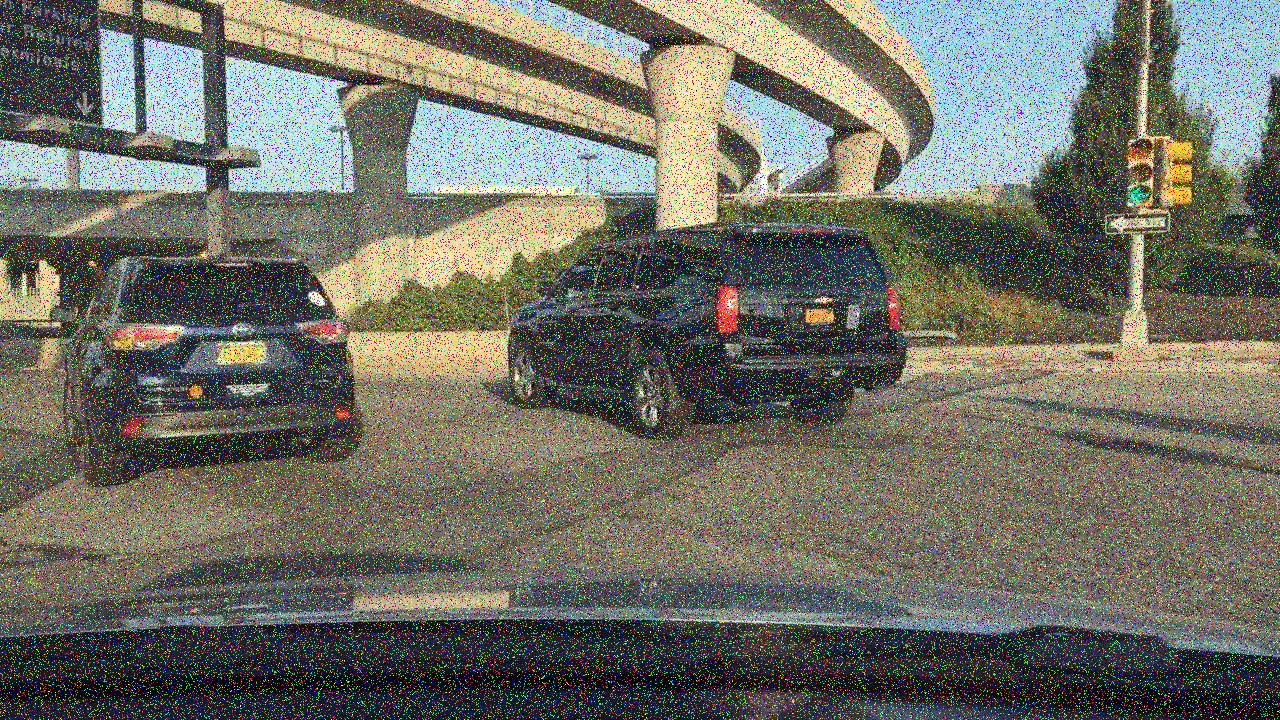car: (507, 221, 908, 442), (45, 254, 357, 487)
